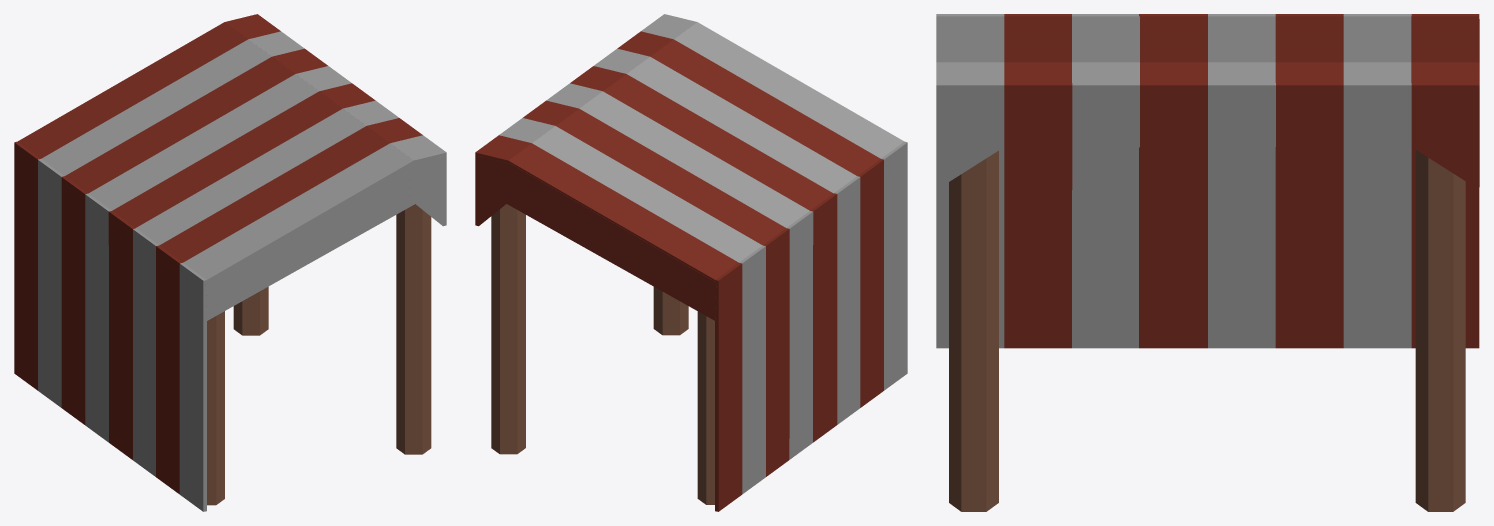
File: MarketStandRoofRed.fbx
3 views of the same model, side by side, from view 1: azimuth 30°, elevation 25°; view 2: azimuth 150°, elevation 25°; view 3: azimuth 270°, elevation 25° (orthographic). The views are drawn at different scales.
Visible parts, largest first — view 1: Cube.015, Cylinder.019, Cylinder.020, Cylinder.018; view 2: Cube.015, Cylinder.018, Cylinder.021, Cylinder.019; view 3: Cube.015, Cylinder.018, Cylinder.019.
Part boxes in pixels (x1=…): Cube.015: x1=14, y1=14, x2=446, y2=511; Cylinder.019: x1=396, y1=204, x2=431, y2=454; Cylinder.020: x1=207, y1=311, x2=224, y2=505; Cylinder.018: x1=233, y1=286, x2=268, y2=335; Cube.015: x1=475, y1=14, x2=907, y2=511; Cylinder.018: x1=491, y1=204, x2=525, y2=454; Cylinder.021: x1=697, y1=311, x2=714, y2=504; Cylinder.019: x1=653, y1=287, x2=688, y2=335; Cube.015: x1=936, y1=14, x2=1479, y2=348; Cylinder.018: x1=1415, y1=150, x2=1465, y2=511; Cylinder.019: x1=949, y1=150, x2=998, y2=511.
Size of the model in its own units: 326 by 385 by 439.
